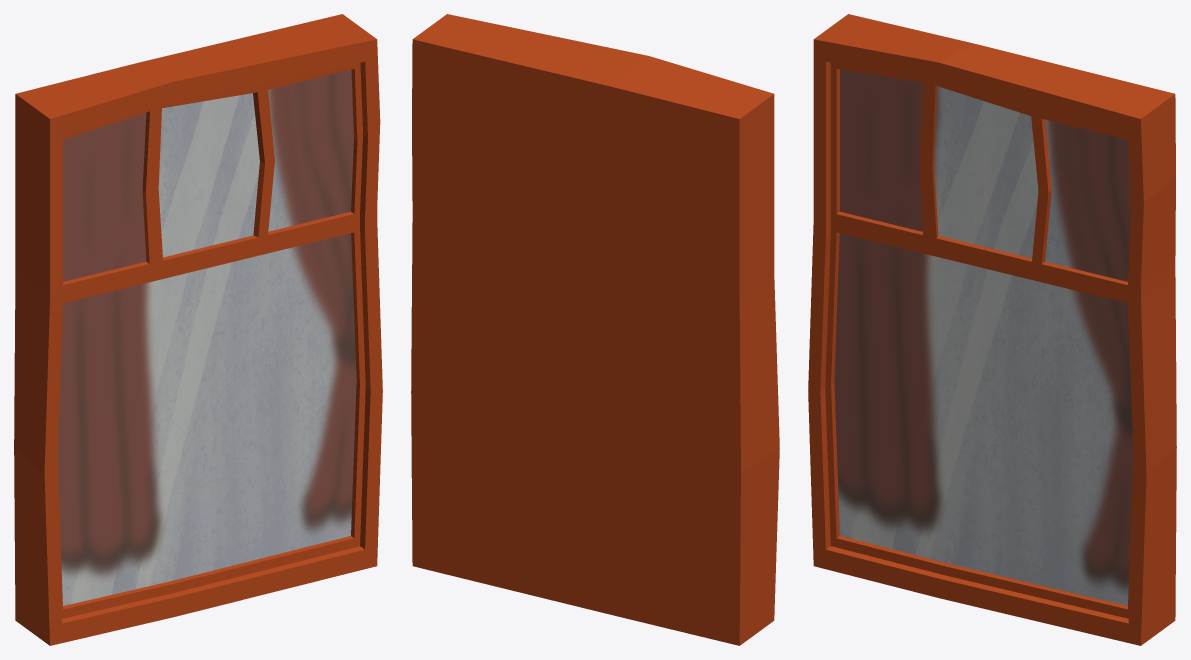
Rendered from Window27.fbx.
3 views of the same model, side by side, from view 1: azimuth 30°, elevation 25°; view 2: azimuth 150°, elevation 25°; view 3: azimuth 330°, elevation 25° (orthographic).
Parts seen in each view (by area): view 1: Cube.092; view 2: Cube.092; view 3: Cube.092.
Boxes of the visible parts, <box> form: Cube.092: <box>14,14,382,645</box>; Cube.092: <box>411,14,779,645</box>; Cube.092: <box>808,14,1176,645</box>.
Size of the model in its own units: 134 by 203 by 23.83.
